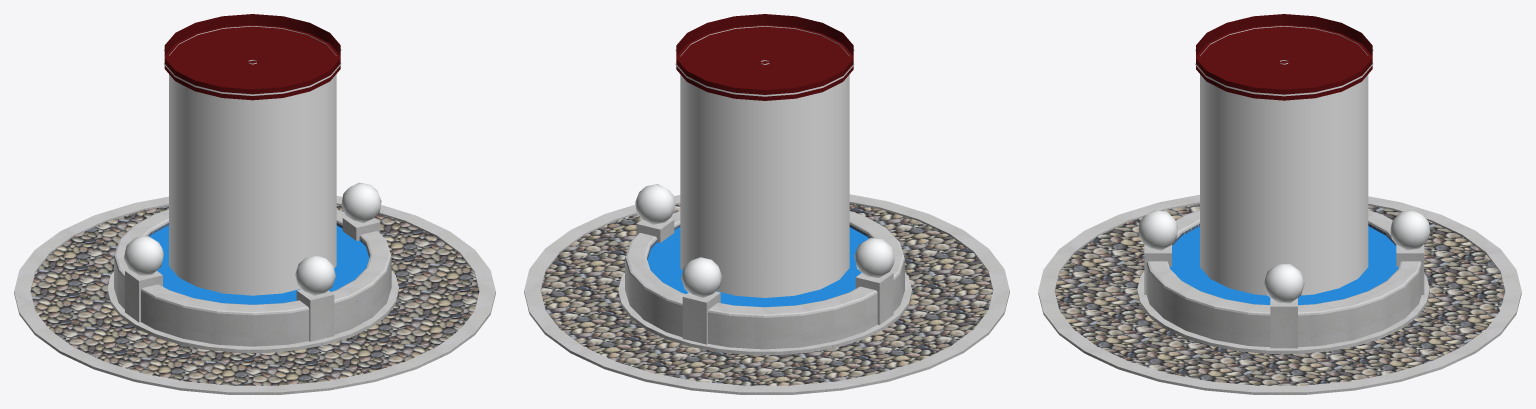
Rendered from M_Ppenquan.FBX.
The picture shows the model from 3 angles, left to right: view 1: azimuth 30°, elevation 25°; view 2: azimuth 150°, elevation 25°; view 3: azimuth 270°, elevation 25°; orthographic projection.
Visible parts, largest first — view 1: M_Ppenquan_09, M_Ppenquan_05, M_Ppenquan_01, M_Ppenquan_03, M_Ppenquan_02, M_Ppenquan_06, M_Ppenquan_07; view 2: M_Ppenquan_09, M_Ppenquan_05, M_Ppenquan_01, M_Ppenquan_03, M_Ppenquan_02, M_Ppenquan_06; view 3: M_Ppenquan_09, M_Ppenquan_01, M_Ppenquan_05, M_Ppenquan_03, M_Ppenquan_06, M_Ppenquan_02, M_Ppenquan_07.
Boxes of the visible parts, x1,y1,x2,y2 form: M_Ppenquan_09: (169, 26, 336, 295); M_Ppenquan_05: (30, 205, 479, 385); M_Ppenquan_01: (14, 196, 495, 394); M_Ppenquan_03: (164, 14, 340, 100); M_Ppenquan_02: (124, 182, 381, 295); M_Ppenquan_06: (149, 225, 369, 304); M_Ppenquan_07: (164, 49, 341, 95); M_Ppenquan_09: (680, 26, 849, 297); M_Ppenquan_05: (541, 203, 992, 385); M_Ppenquan_01: (524, 194, 1009, 394); M_Ppenquan_03: (676, 14, 853, 100); M_Ppenquan_02: (635, 184, 894, 297); M_Ppenquan_06: (647, 227, 868, 307); M_Ppenquan_09: (1200, 26, 1368, 295); M_Ppenquan_01: (1038, 194, 1521, 394); M_Ppenquan_05: (1055, 204, 1504, 385); M_Ppenquan_03: (1196, 14, 1372, 100); M_Ppenquan_06: (1169, 226, 1398, 304); M_Ppenquan_02: (1138, 210, 1429, 303); M_Ppenquan_07: (1195, 49, 1373, 96).
Size of the model in its own units: 6.9 by 3.82 by 6.94.
